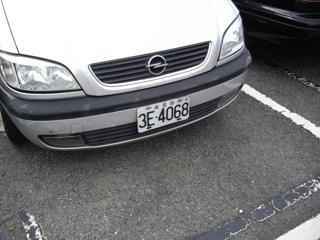plate: (135, 98, 191, 131)
